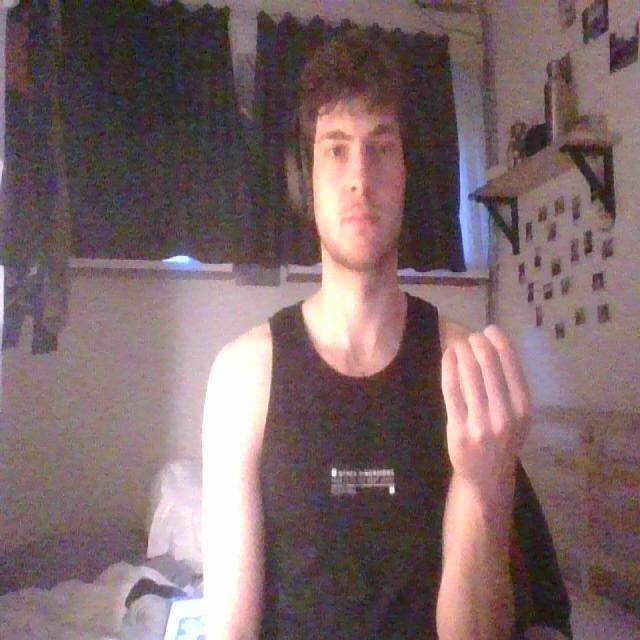forward: (440, 320, 538, 478)
